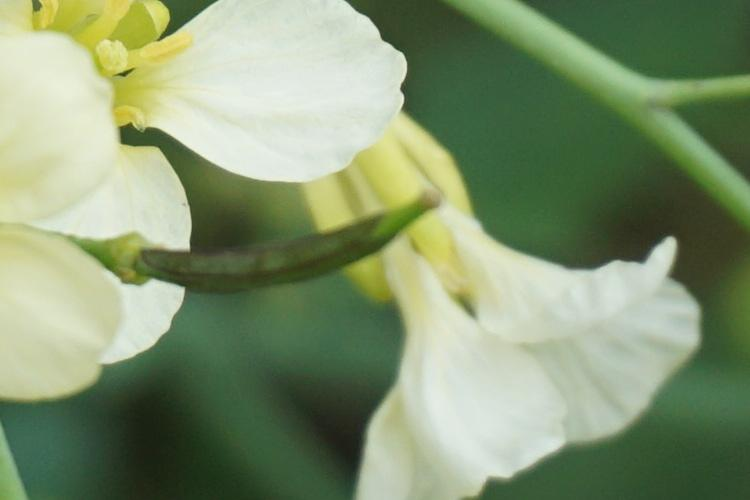pod: (98, 213, 467, 301)
white: (365, 165, 700, 500), (1, 3, 398, 182), (4, 38, 187, 398)
